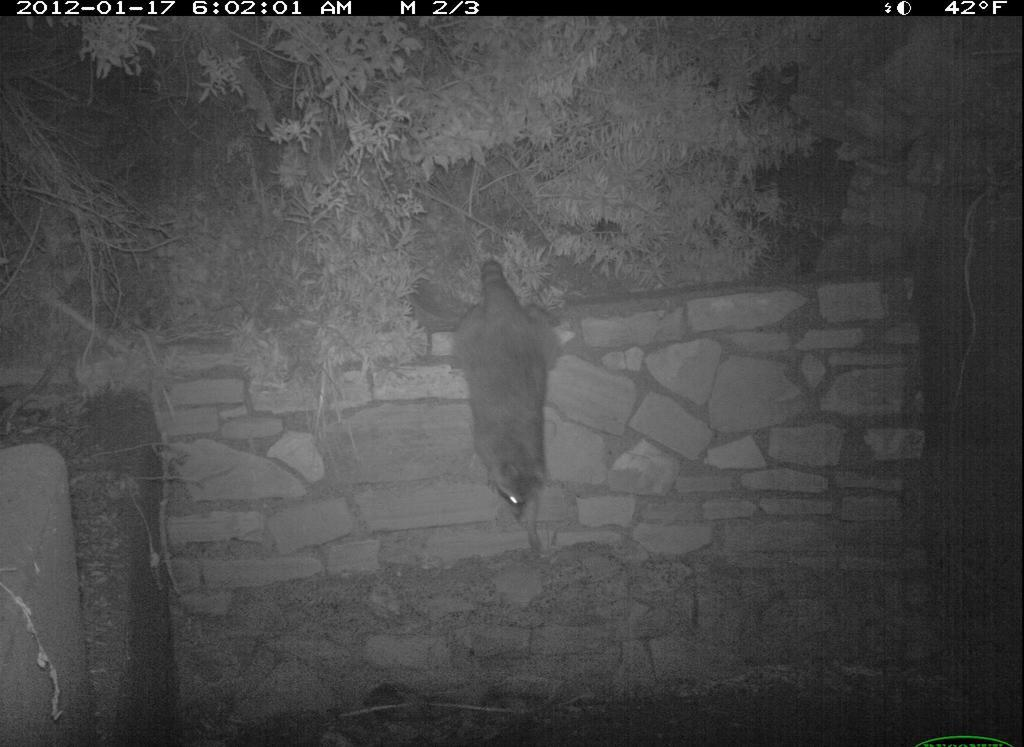raccoon: (442, 260, 582, 525)
